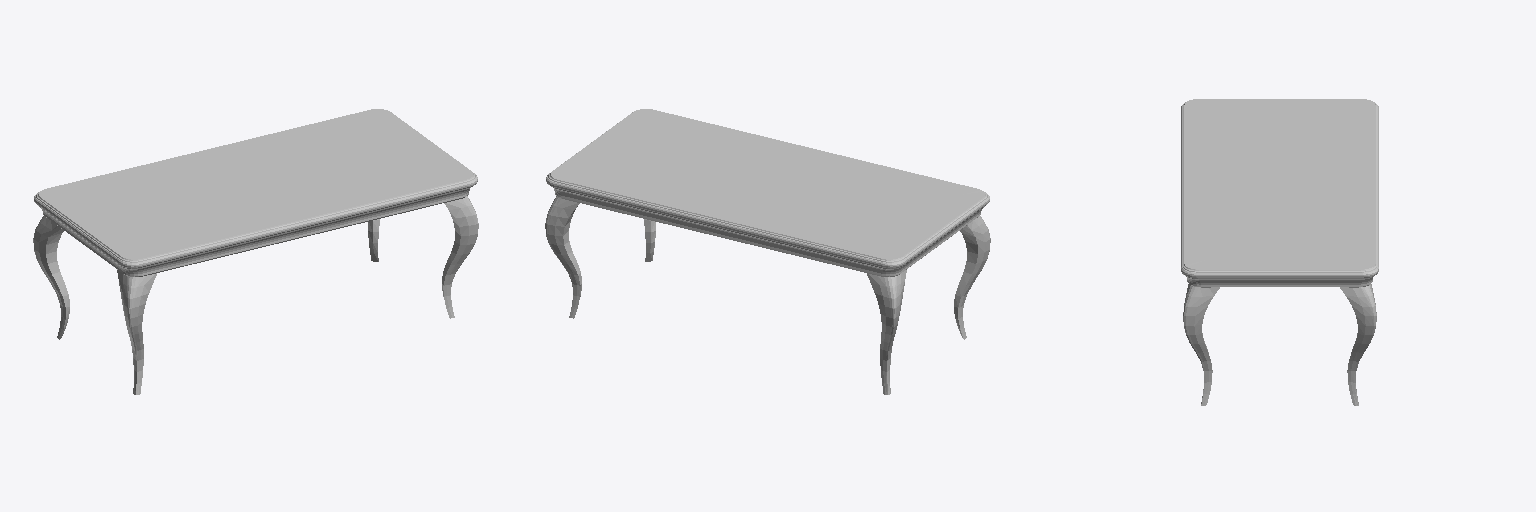
The model's file is coffeetable2.obj.
3 renders of one model, left to right at view 1: azimuth 30°, elevation 25°; view 2: azimuth 150°, elevation 25°; view 3: azimuth 270°, elevation 25°, orthographic.
Visible parts, largest first — view 1: coffetable; view 2: coffetable; view 3: coffetable.
Boxes of the visible parts, <box> form: coffetable: <box>33,109,478,394</box>; coffetable: <box>545,109,990,394</box>; coffetable: <box>1181,99,1378,405</box>.
Size of the model in its own units: 32.57 by 12.52 by 15.7.